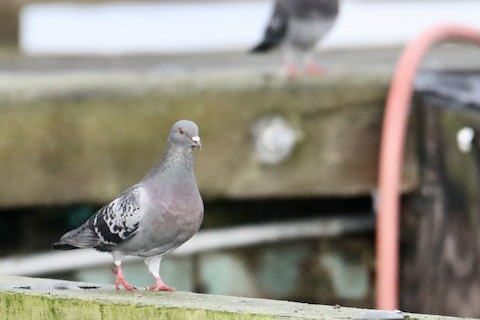pigeon: (48, 117, 209, 290)
